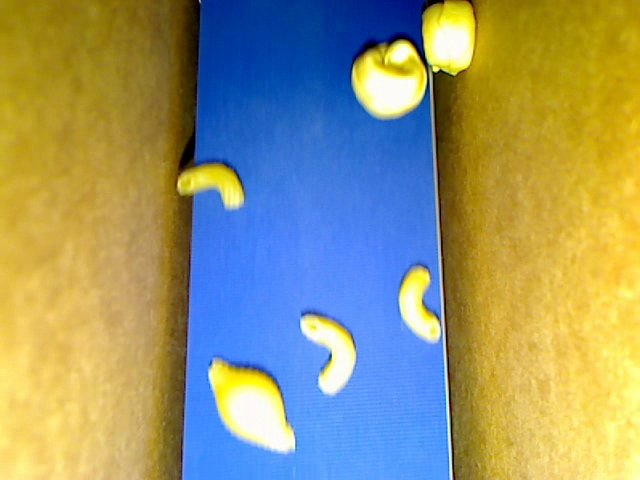elbow: (299, 314, 355, 395), (398, 263, 441, 344), (177, 163, 245, 211)
shell: (208, 358, 296, 453)
